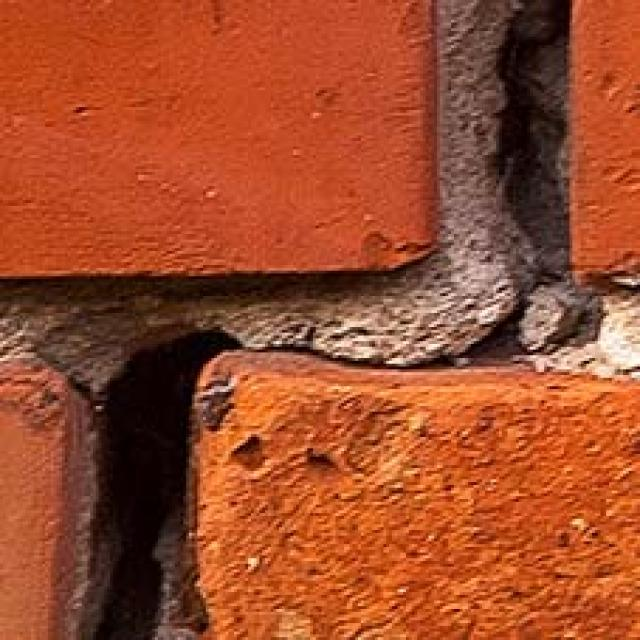Crack: (34, 0, 621, 640)
